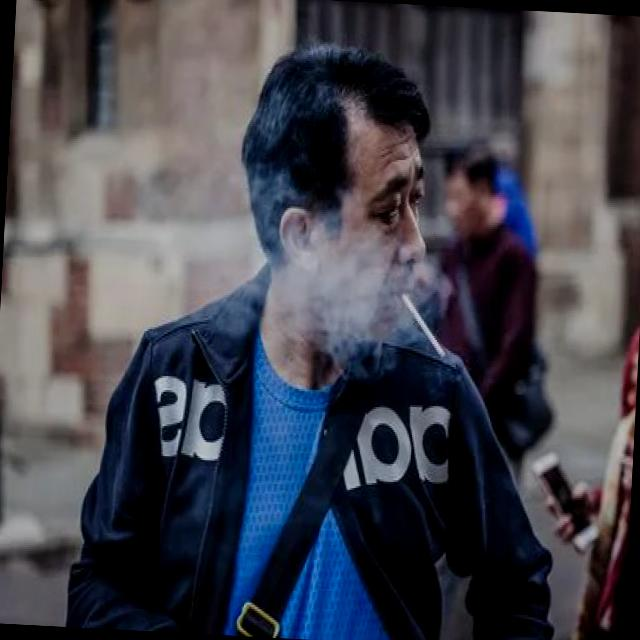cigarette: (392, 286, 452, 367)
